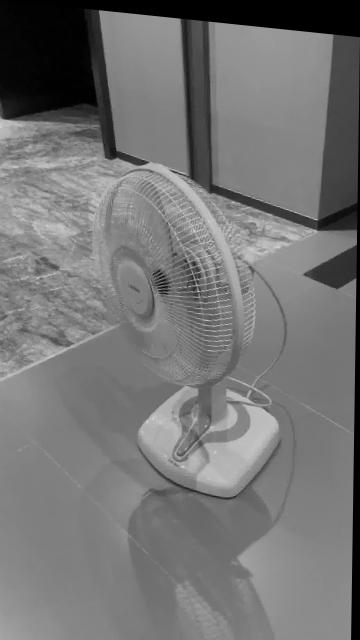Fan: (92, 159, 282, 494)
